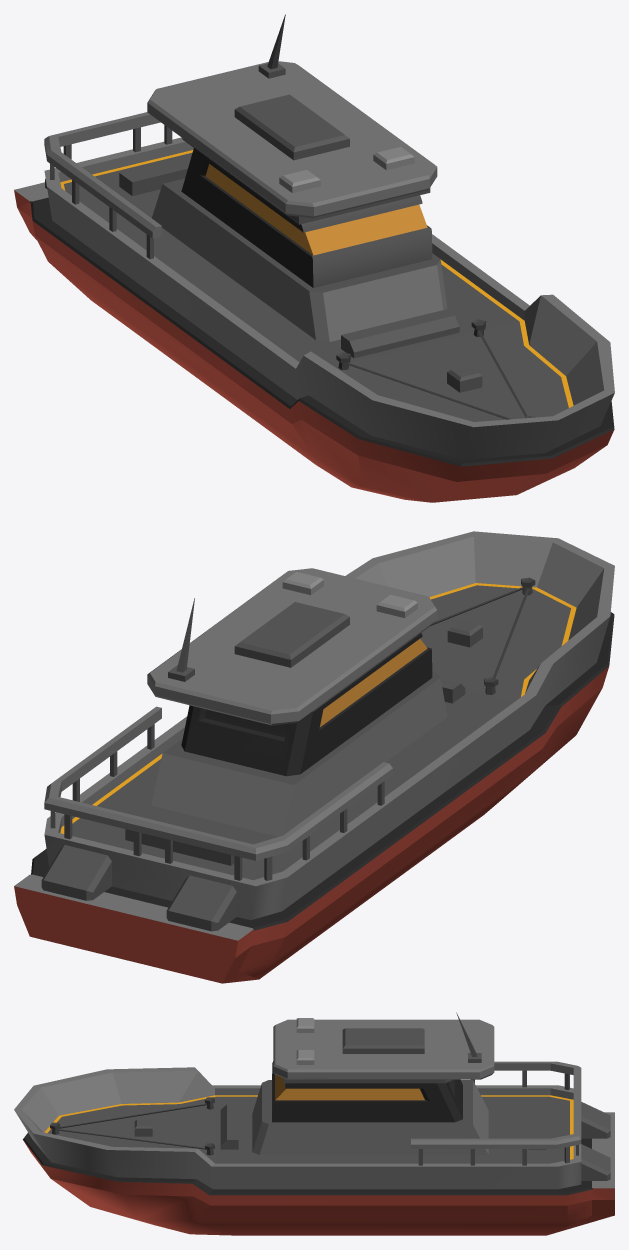
The model's file is model_polyfleet_boat02.fbx.
The picture shows the model from 3 angles, top to bottom: view 1: azimuth 30°, elevation 25°; view 2: azimuth 150°, elevation 25°; view 3: azimuth 270°, elevation 25°; orthographic projection. The views are drawn at different scales.
Parts seen in each view (by area): view 1: model_polyfleet_boat02, emissivelight; view 2: model_polyfleet_boat02, emissivelight; view 3: model_polyfleet_boat02, emissivelight.
Boxes of the visible parts, x1=… form: model_polyfleet_boat02: x1=14, y1=14, x2=614, y2=502; emissivelight: x1=205, y1=164, x2=427, y2=255; model_polyfleet_boat02: x1=14, y1=531, x2=614, y2=983; emissivelight: x1=320, y1=639, x2=427, y2=726; model_polyfleet_boat02: x1=14, y1=1012, x2=614, y2=1235; emissivelight: x1=275, y1=1074, x2=424, y2=1100.
Bounding box in the file's own units: 512 × 562 × 1458.
